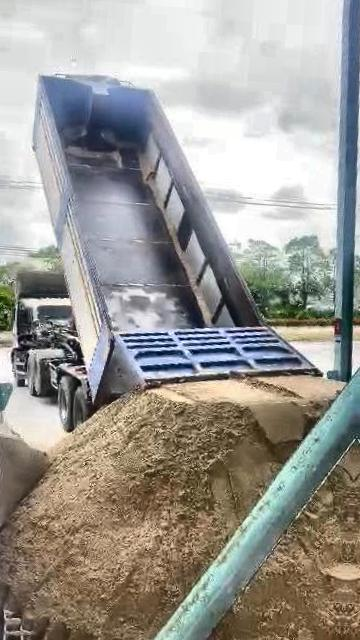sand: (0, 377, 338, 640), (193, 448, 356, 640), (0, 425, 47, 528)
